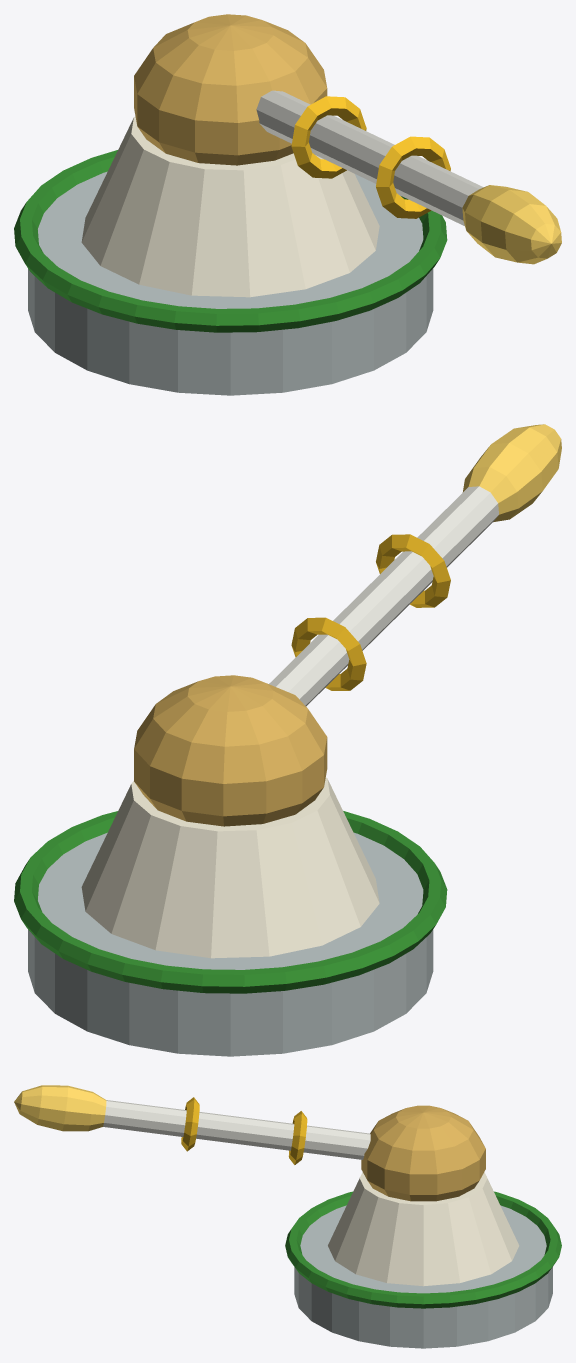
The model's file is turret.obj.
The picture shows the model from 3 angles, top to bottom: view 1: azimuth 30°, elevation 25°; view 2: azimuth 150°, elevation 25°; view 3: azimuth 270°, elevation 25°; orthographic projection. The views are drawn at different scales.
Parts seen in each view (by area): view 1: turret; view 2: turret; view 3: turret.
Boxes of the visible parts, x1,y1,x2,y2 form: turret: (14,14,561,395); turret: (14,424,561,1056); turret: (14,1085,561,1348).
Bounding box in the file's own units: 20.21 × 16.68 × 40.
1 material, 1 textured.
